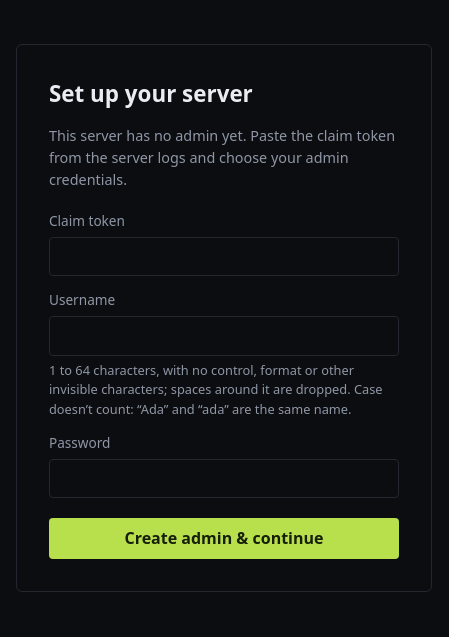
Test: SetupScreen first-run metadata decision › keeps the admin creation failure on step 1
Type "CLAIM-123" into the field with test id "setup-claim-token".
click(224, 256); type("CLAIM-123")  # box [49, 237, 399, 276]
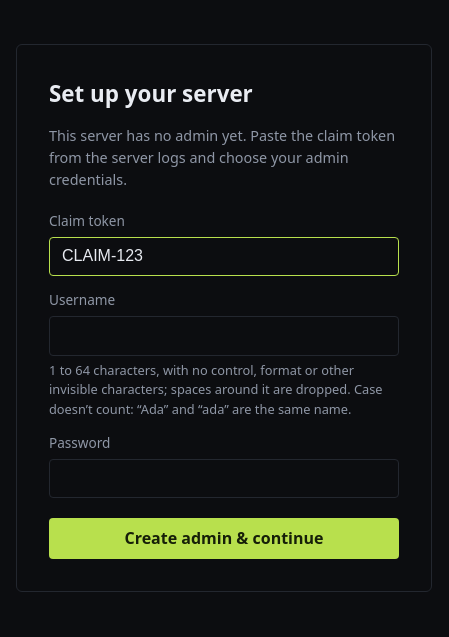
Type "operator" into the field with test id "setup-username".
click(224, 336); type("operator")  # box [49, 316, 399, 356]
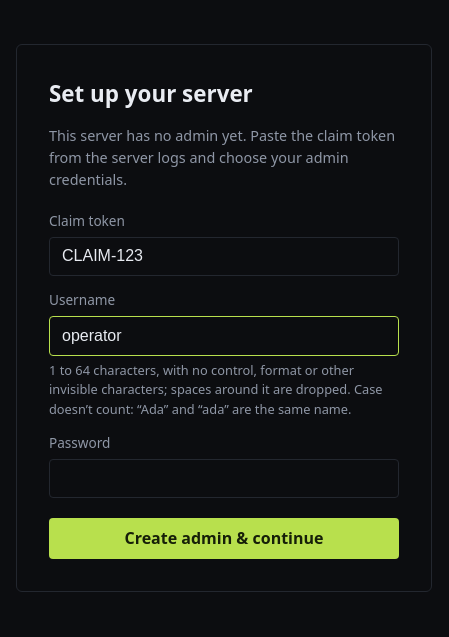
Type "hunter2hunter2" into the password field with test id "setup-password".
click(224, 479); type("hunter2hunter2")  # box [49, 459, 399, 498]
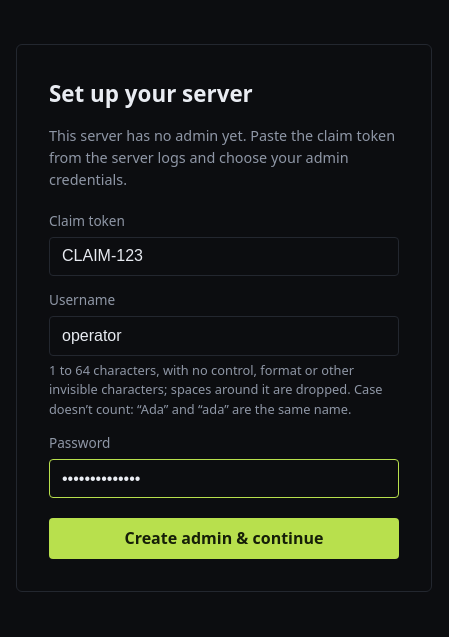
Click the button with test id "setup-submit".
click(224, 538)  # box [49, 518, 399, 559]
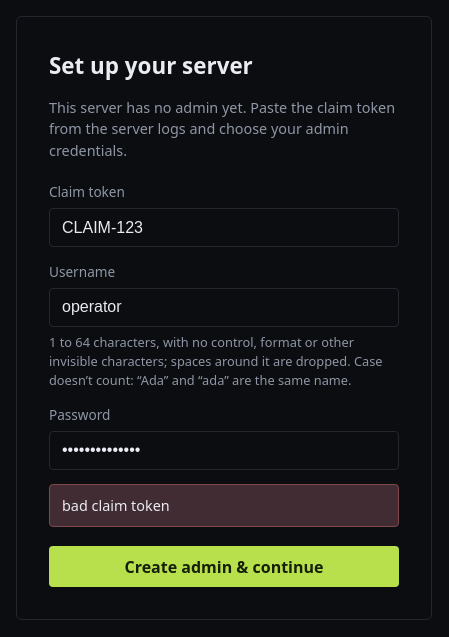
Result: the message "bad claim token" is shown at [49, 484, 399, 527]
